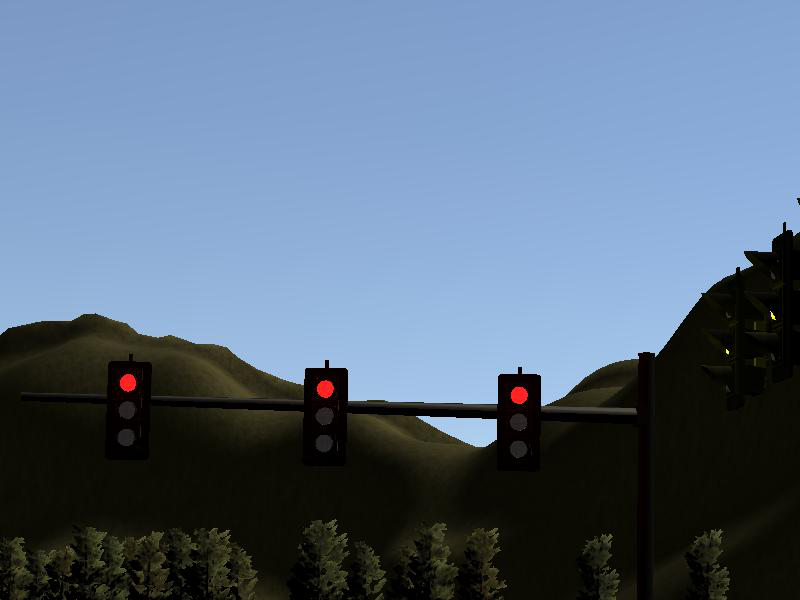red: (110, 359, 152, 466), (304, 368, 348, 467), (497, 374, 542, 469)
